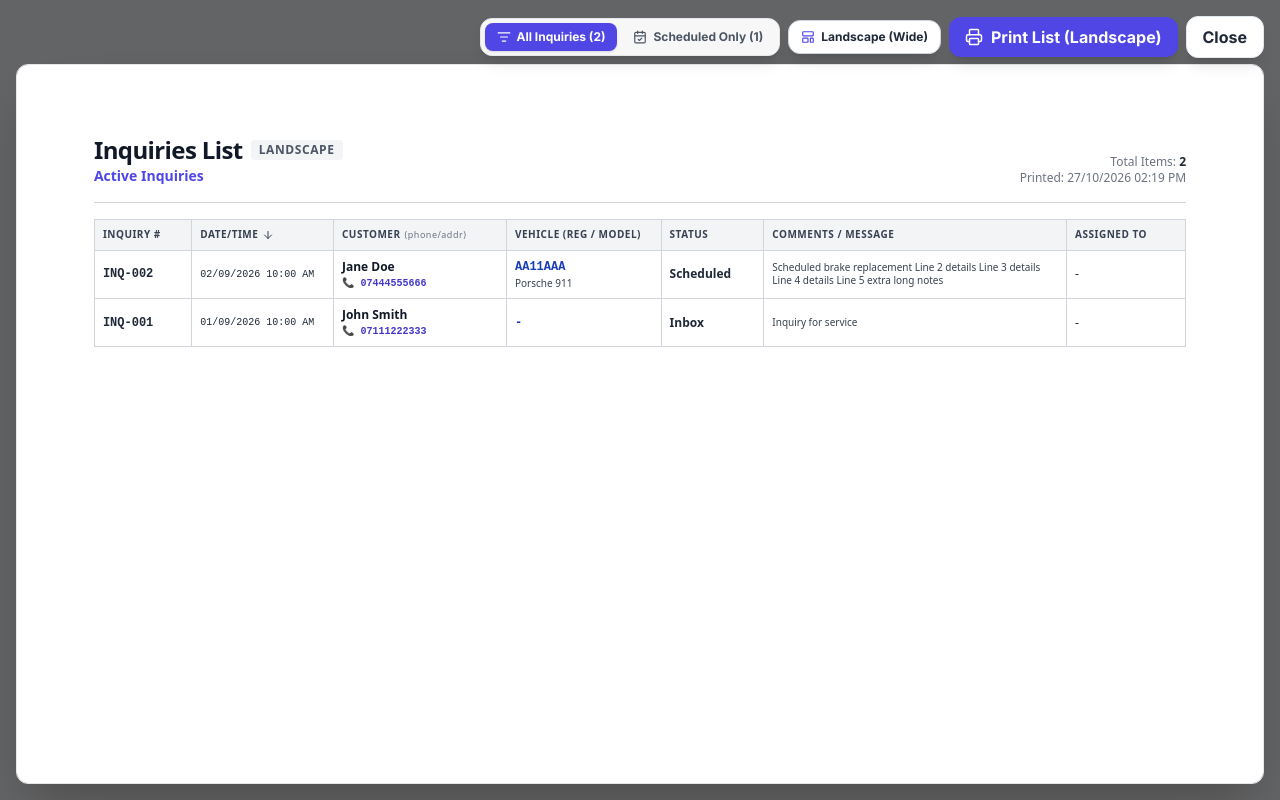
Scenario: PrintableInquiryList - Scheduled Inquiries Printing › toggles between All Inquiries and Scheduled Only via pill buttons
This screenshot has width=1280, height=800.
Expected: the text "INQ-001" is shown, [94,298,192,347]
Expected: the text "INQ-002" is shown, [94,250,192,298]
# Click Scheduled Only pill
Click the button "Scheduled Only (1)": (698, 37) [622,23,775,51]
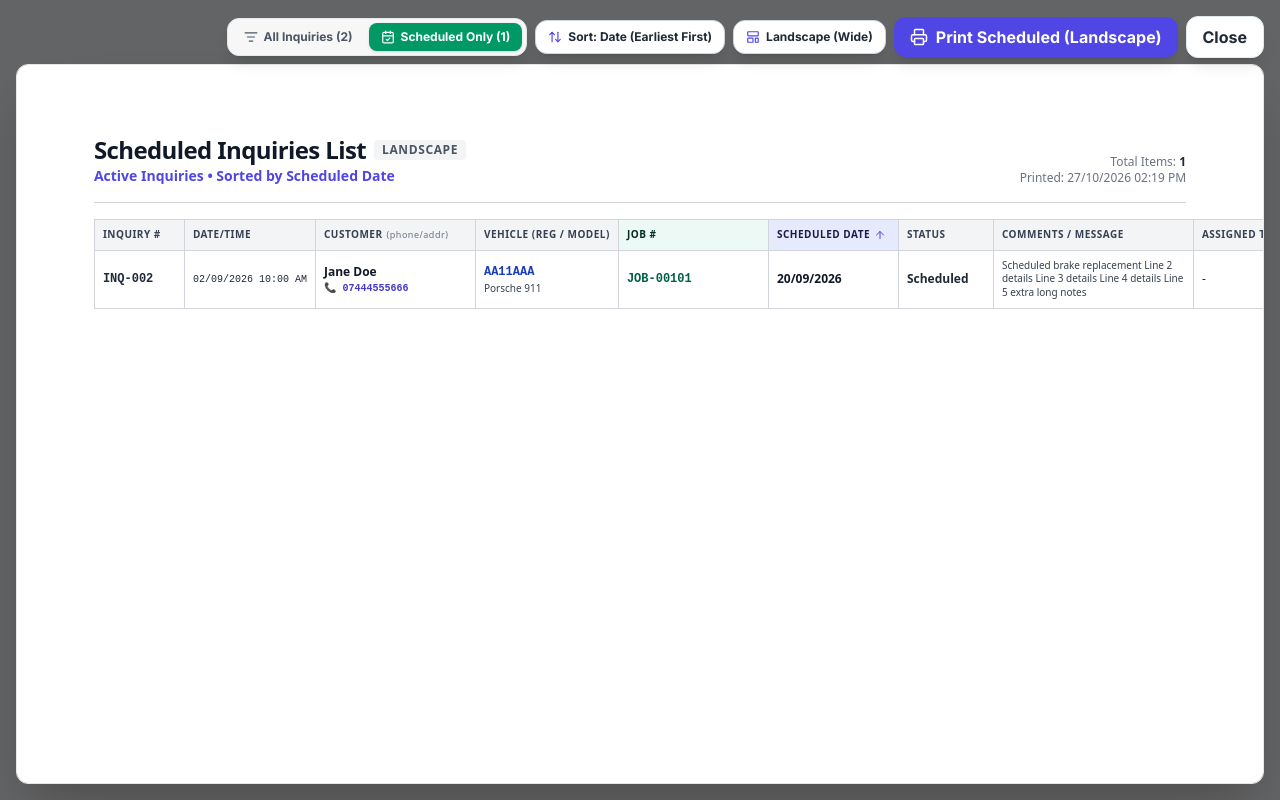
Expected: the text "INQ-002" is shown, [94,250,184,308]
Expected: the text "INQ-001" is gone
Expected: the text "JOB-00101" is shown, [618,250,768,308]
# Click All Inquiries pill
Click the button "All Inquiries (2)": (298, 37) [232,23,365,51]
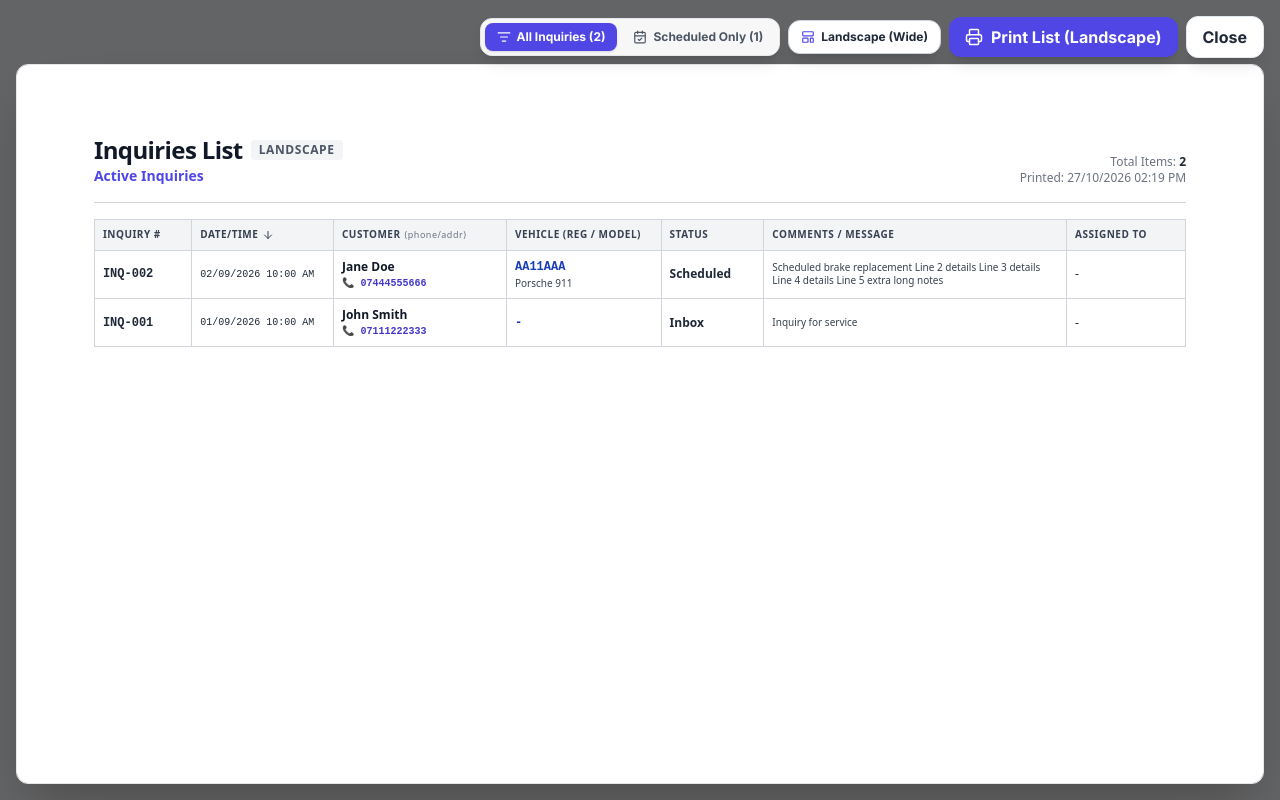
Expected: the text "INQ-002" is shown, [94,250,192,298]
Expected: the text "INQ-001" is shown, [94,298,192,347]
